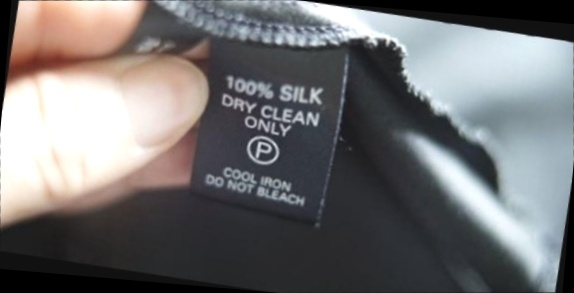dry_clean_any_solvent_except_trichloroethylene: (242, 129, 286, 170)
